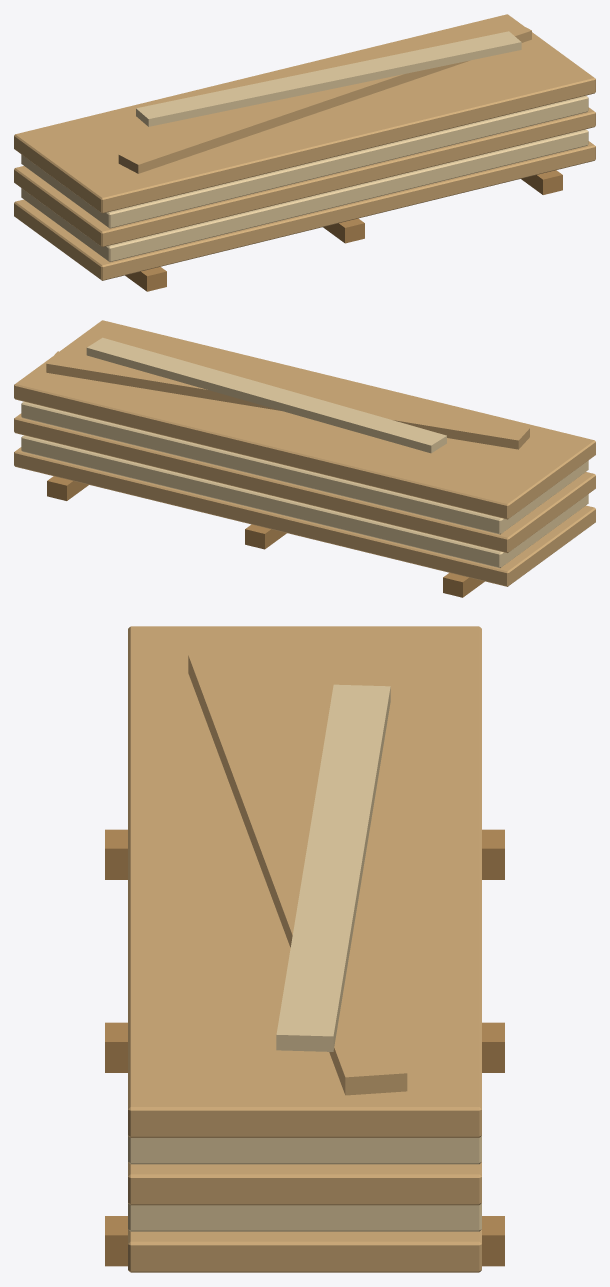
Rendered from con_lumber.glb.
The picture shows the model from 3 angles, top to bottom: view 1: azimuth 30°, elevation 25°; view 2: azimuth 150°, elevation 25°; view 3: azimuth 270°, elevation 25°; orthographic projection. The views are drawn at different scales.
Parts seen in each view (by area): view 1: con_lumber; view 2: con_lumber; view 3: con_lumber.
Part boxes in pixels (<box>): con_lumber: <box>14,14,595,291</box>; con_lumber: <box>14,320,595,597</box>; con_lumber: <box>105,626,504,1272</box>.
Size of the model in its own units: 4 by 0.9 by 1.4.
